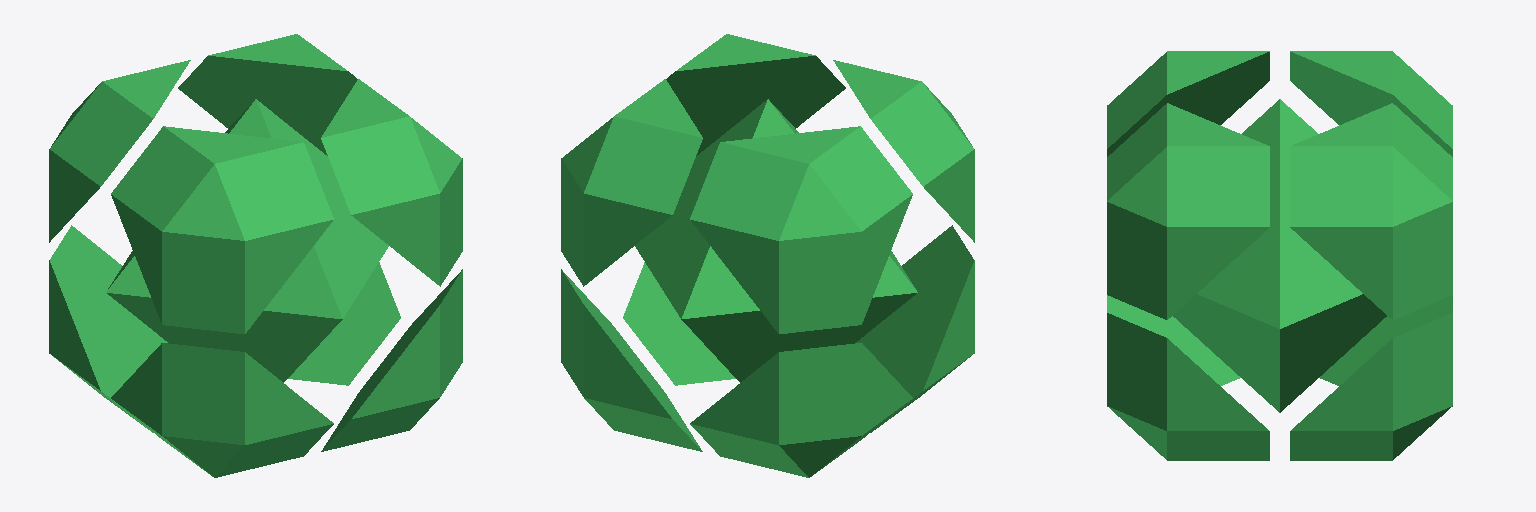
3 views of the same model, side by side, from view 1: azimuth 30°, elevation 25°; view 2: azimuth 150°, elevation 25°; view 3: azimuth 270°, elevation 25° (orthographic).
Visible parts, largest first — view 1: 立方体_立方体.004; view 2: 立方体_立方体.004; view 3: 立方体_立方体.004.
Boxes of the visible parts, <box> form: 立方体_立方体.004: <box>49,34,462,477</box>; 立方体_立方体.004: <box>561,34,974,477</box>; 立方体_立方体.004: <box>1107,51,1452,460</box>.
Size of the model in its own units: 2 by 2 by 2.
1 materials, 1 textured.